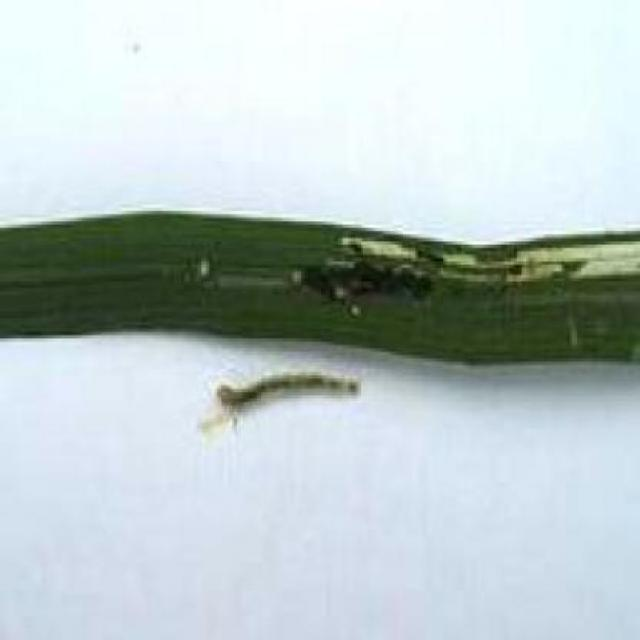leaf-folder: (189, 355, 371, 428)
